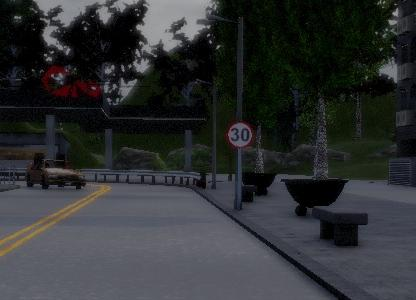Speed_30: (226, 120, 255, 148)
